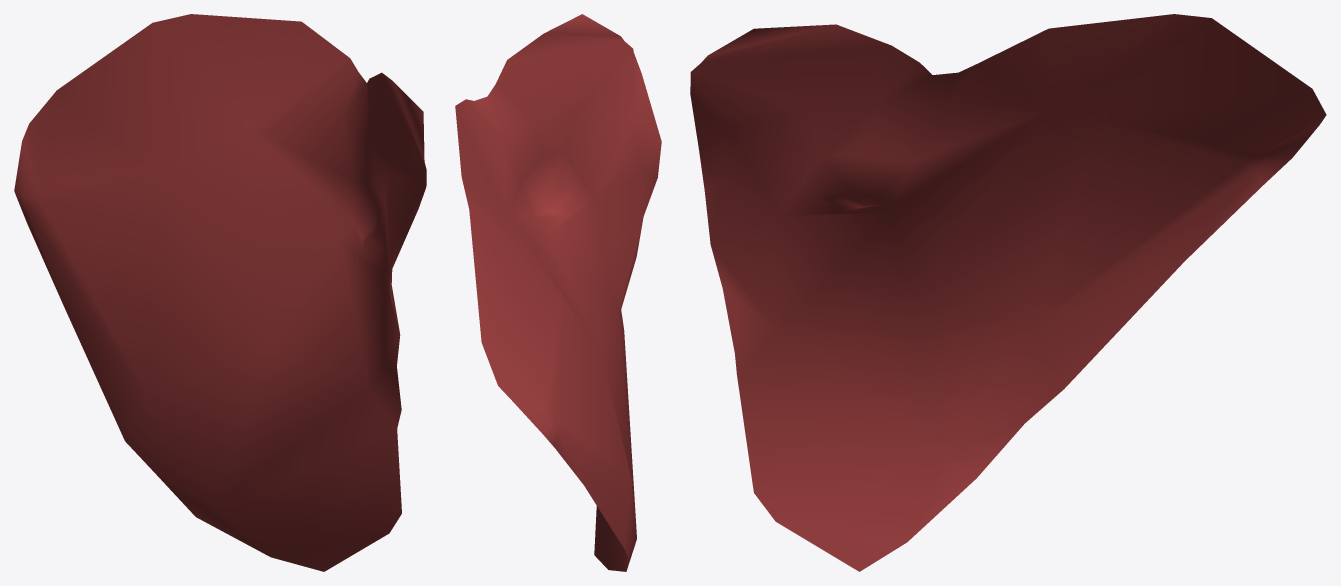
Rendered from tibialis-anterior-muscle-el.glb.
3 views of the same model, side by side, from view 1: azimuth 30°, elevation 25°; view 2: azimuth 150°, elevation 25°; view 3: azimuth 270°, elevation 25° (orthographic). The views are drawn at different scales.
Visible parts, largest first — view 1: Tibialis anterior muscle.el; view 2: Tibialis anterior muscle.el; view 3: Tibialis anterior muscle.el.
Boxes of the visible parts, x1,y1,x2,y2 form: Tibialis anterior muscle.el: (14,14,426,571); Tibialis anterior muscle.el: (455,14,661,571); Tibialis anterior muscle.el: (690,14,1326,571).
Size of the model in its own units: 0.00607 by 0.0136 by 0.0135.
